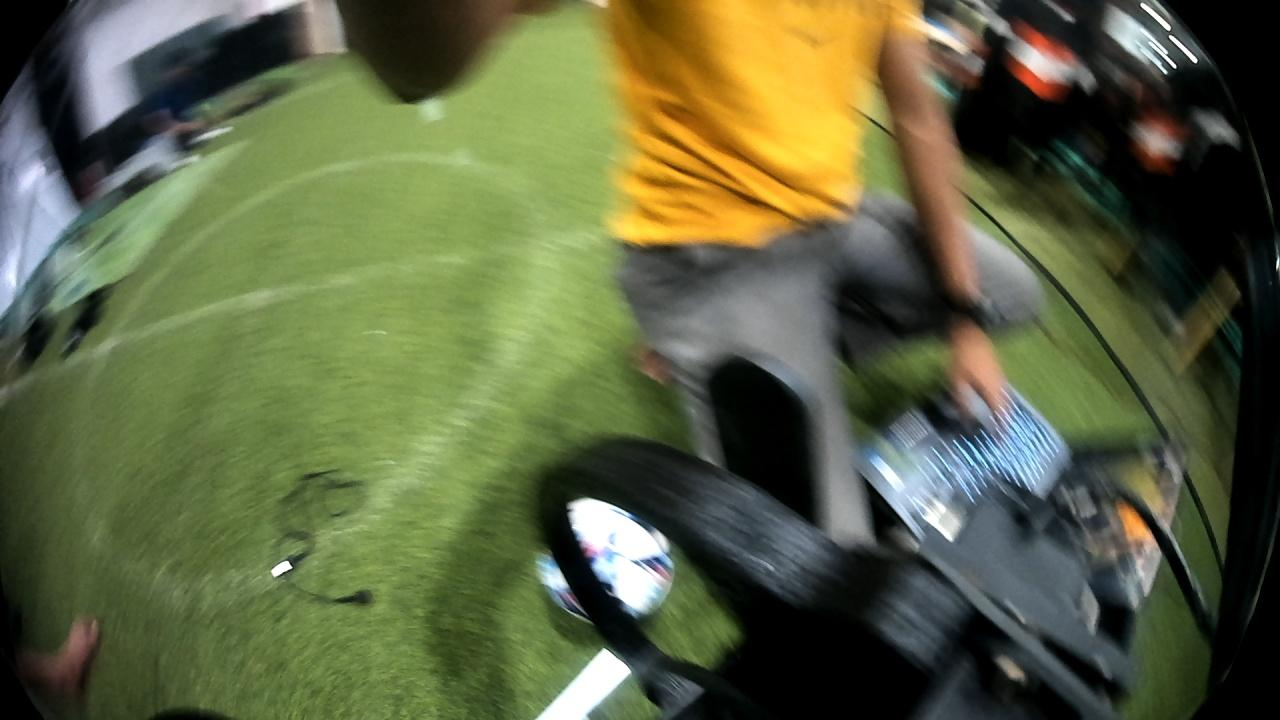ball: (526, 487, 680, 639)
